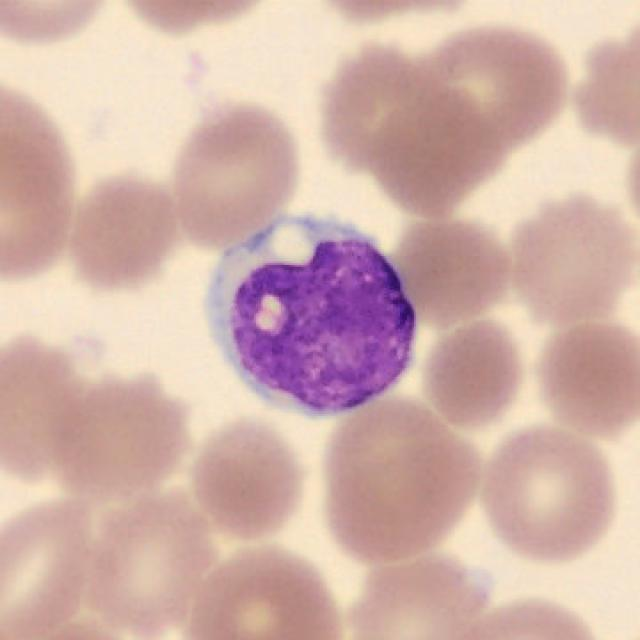Linfocito: (203, 215, 418, 420)
